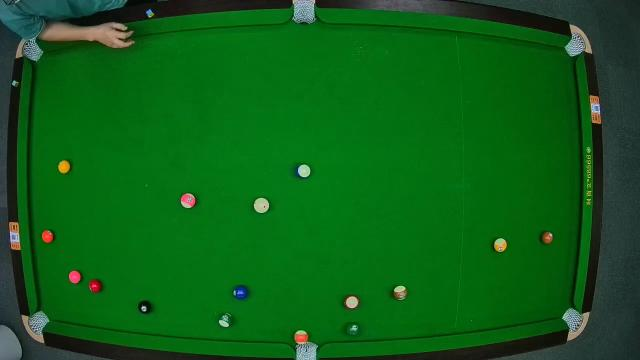bag1: (22, 42, 42, 62)
bag2: (293, 1, 317, 27)
bag3: (566, 35, 588, 57)
bag4: (28, 310, 48, 334)
bag5: (295, 340, 319, 360)
bag6: (564, 308, 584, 332)
ball0: (254, 198, 270, 214)
ball1: (58, 160, 70, 174)
ball10: (296, 164, 312, 180)
ball11: (344, 294, 360, 310)
ball12: (180, 193, 196, 209)
ball13: (294, 330, 310, 344)
ball14: (218, 312, 232, 328)
ball15: (392, 286, 408, 302)
ball2: (231, 284, 249, 300)
ball3: (88, 278, 102, 294)
ball4: (69, 270, 83, 286)
ball5: (42, 230, 54, 244)
ball6: (345, 322, 359, 336)
ball7: (540, 230, 554, 244)
ball8: (138, 300, 152, 314)
ball9: (493, 238, 507, 253)
